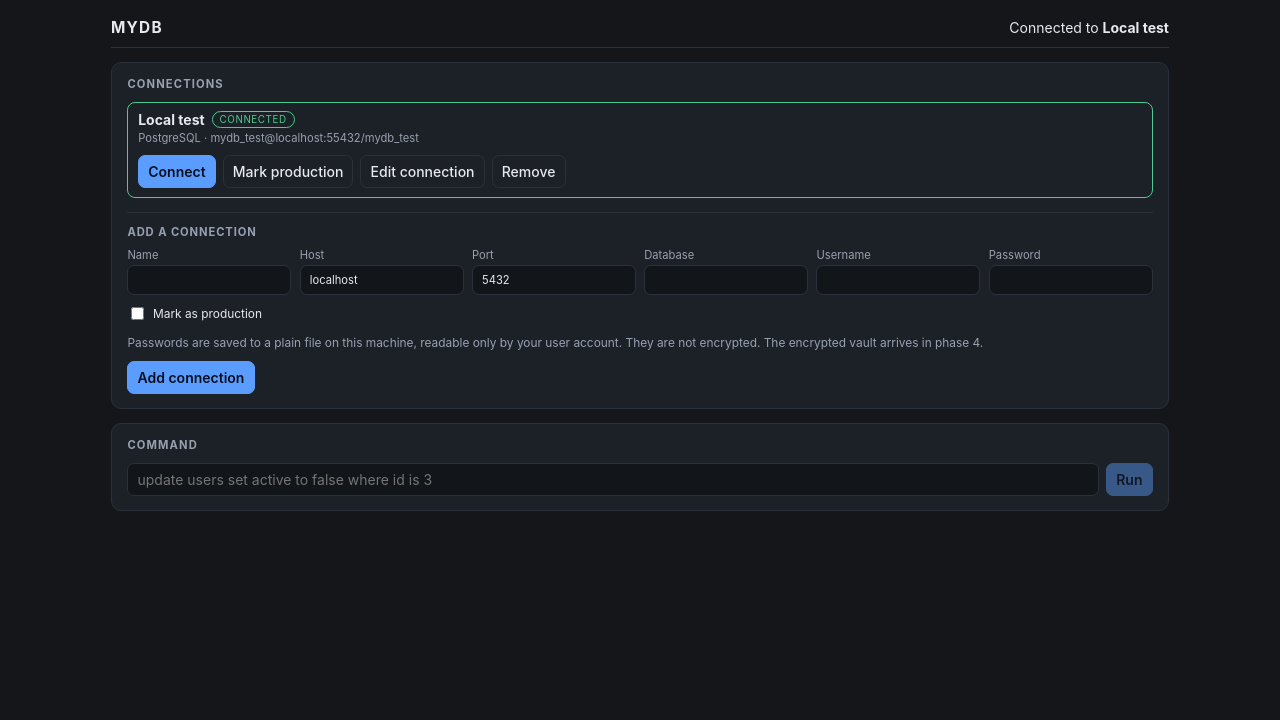
it: the confirmation loop › cancel discards the change and says nothing was altered
This screenshot has width=1280, height=720.
Expected: the text "Connected to Local test" is shown, [1009, 18, 1169, 36]
Type "delete users where active is false" into the field named "Command" at (613, 479), box [127, 463, 1099, 496]
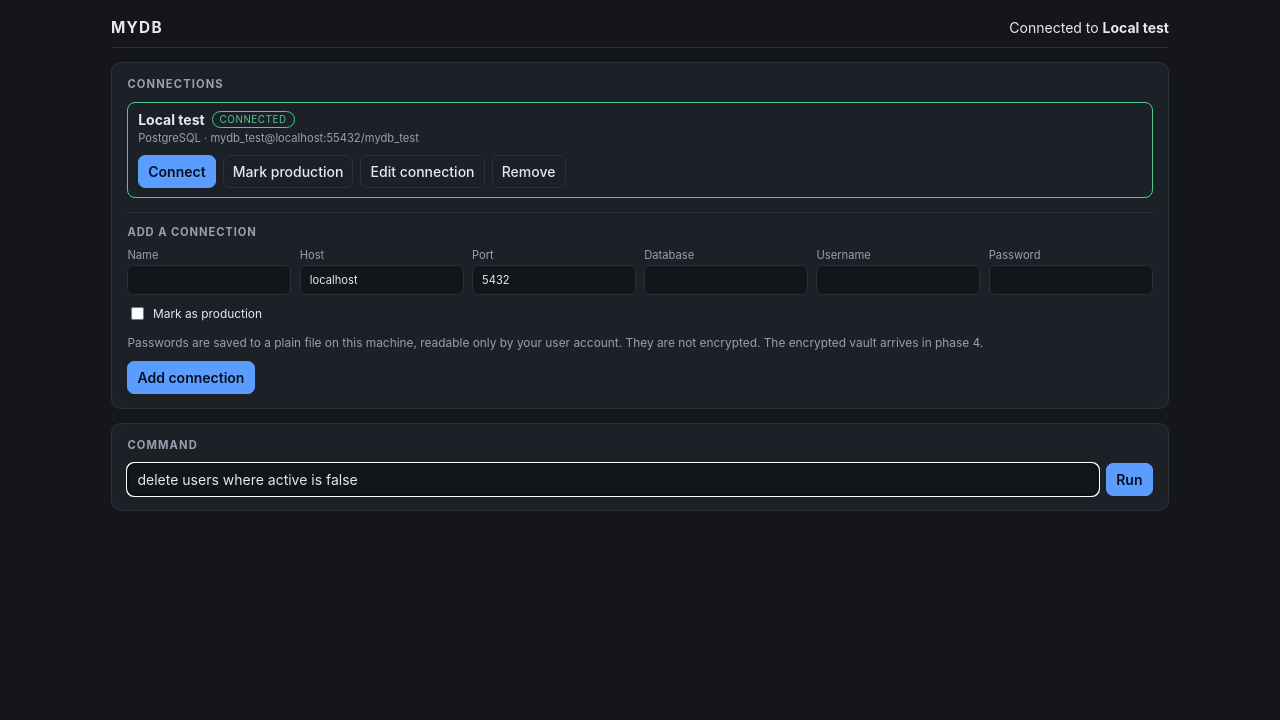
Click the button "Run" at (1129, 479), box [1106, 463, 1153, 496]
(page scrolled)
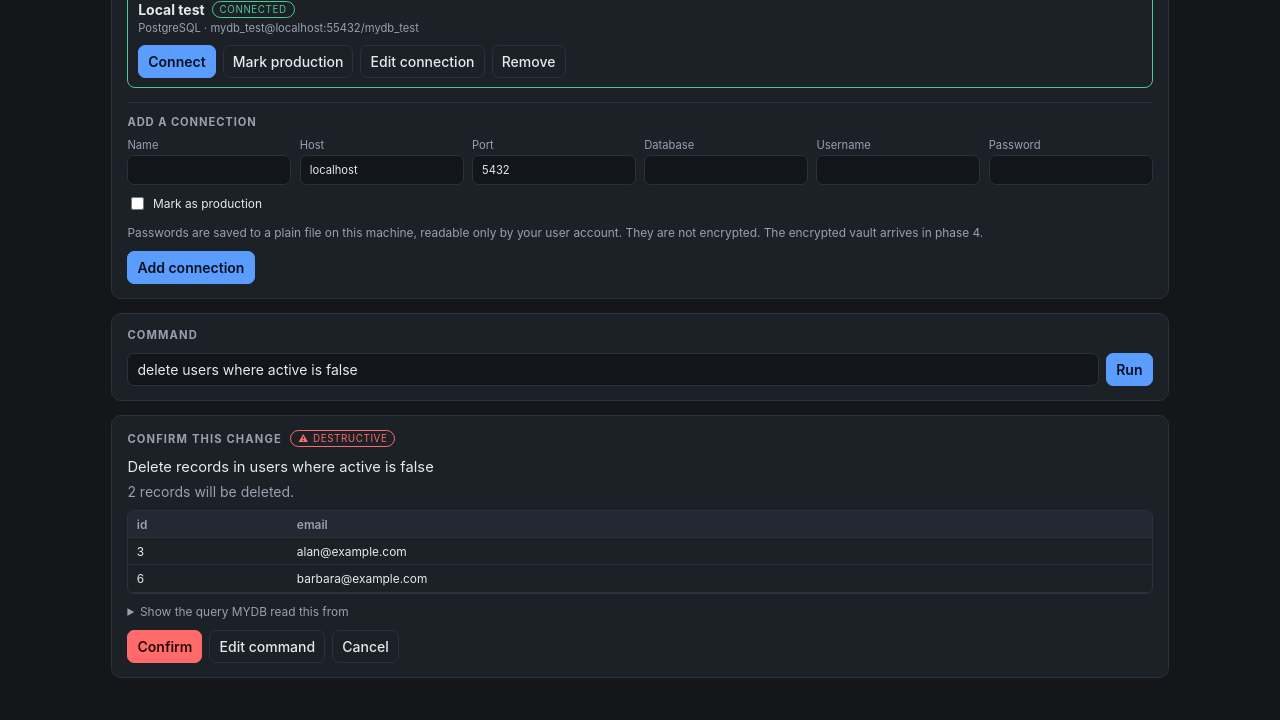
Click the button "Cancel" at (366, 646), box [332, 630, 399, 663]
(page scrolled)
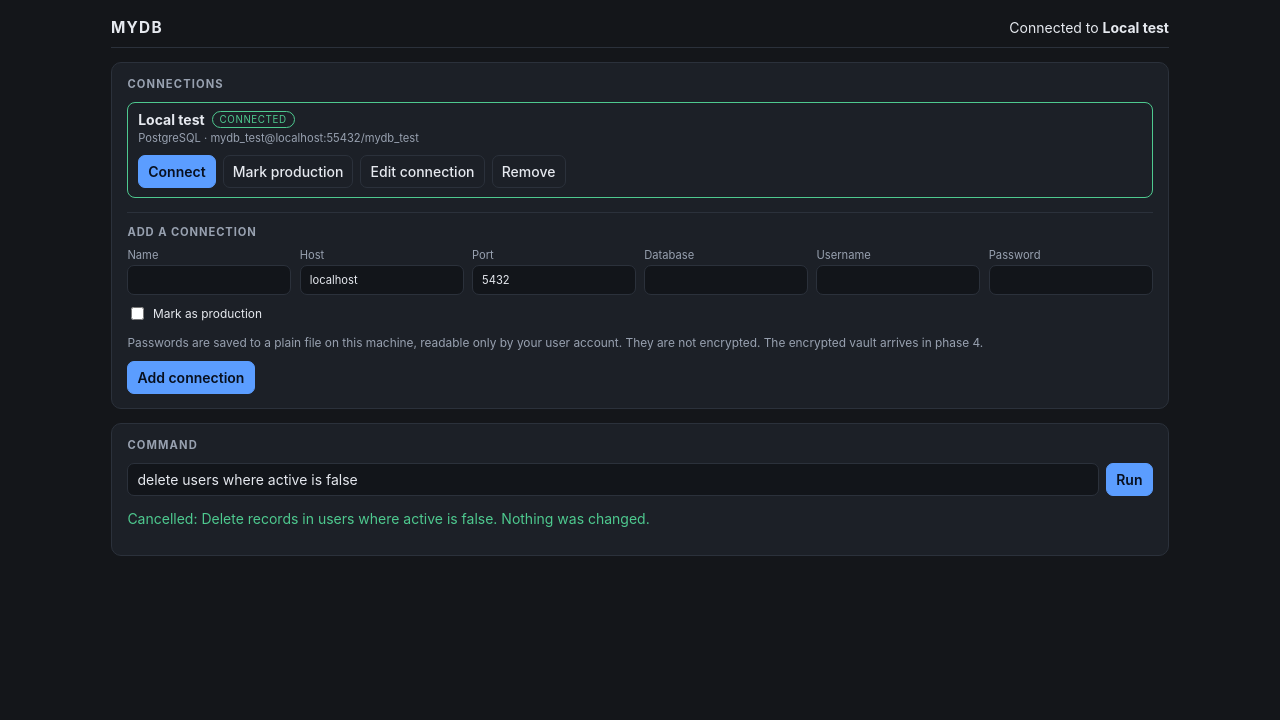
Expected: the text "Nothing was changed" is shown, [127, 510, 650, 527]
